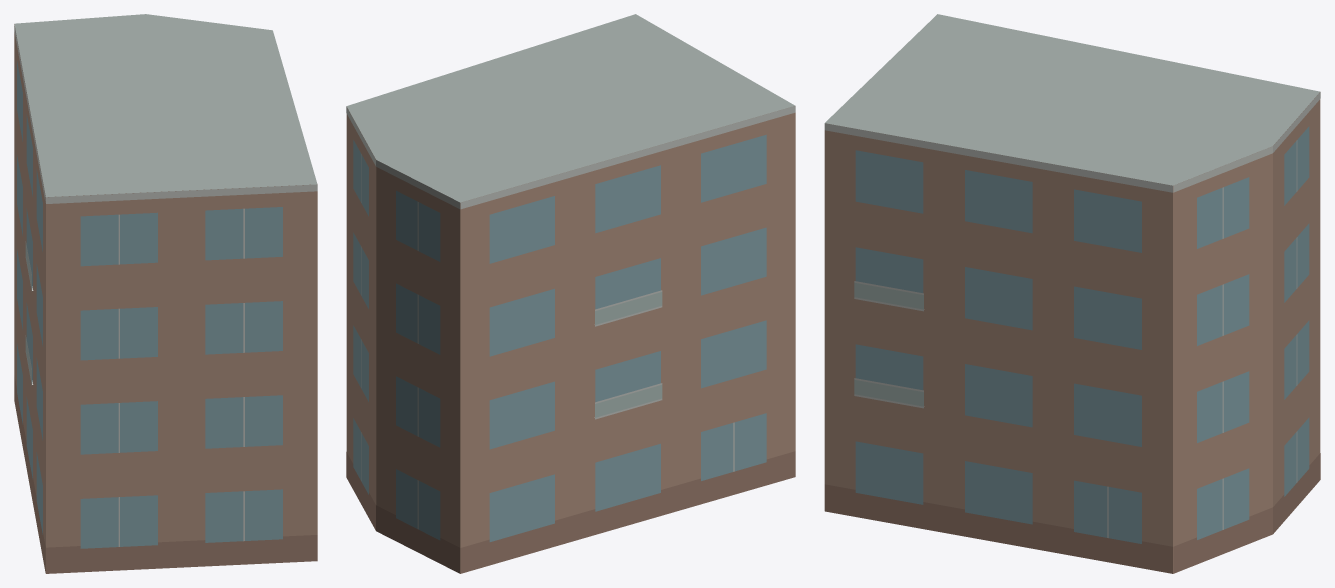
File: survey-upis-32808109.glb
3 renders of one model, left to right at view 1: azimuth 30°, elevation 25°; view 2: azimuth 150°, elevation 25°; view 3: azimuth 270°, elevation 25°, orthographic. The views are drawn at different scales.
Parts seen in each view (by area): view 1: survey-upis-32808109.tmp; view 2: survey-upis-32808109.tmp; view 3: survey-upis-32808109.tmp.
Boxes of the visible parts, x1,y1,x2,y2 form: survey-upis-32808109.tmp: (14,14,317,573); survey-upis-32808109.tmp: (346,14,795,573); survey-upis-32808109.tmp: (824,14,1320,573).
Size of the model in its own units: 12.57 by 13.25 by 15.35.
